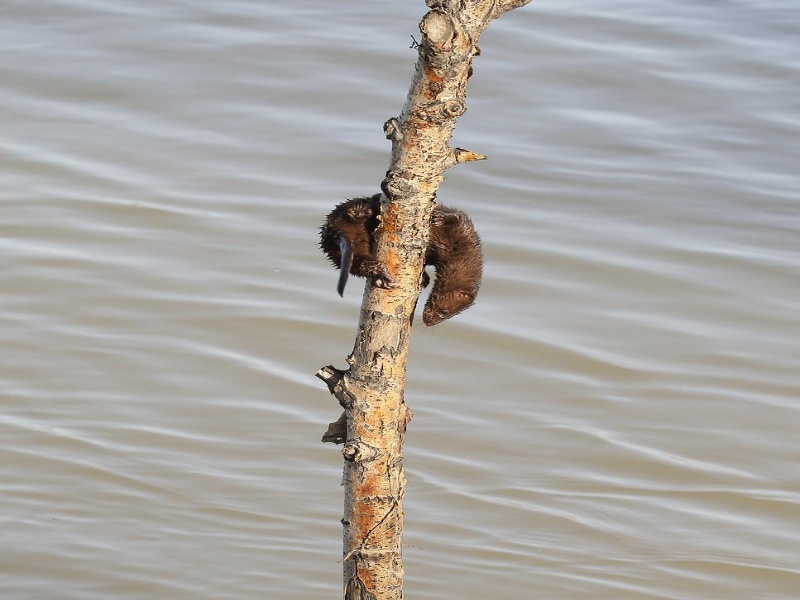minkish: (318, 194, 484, 328)
